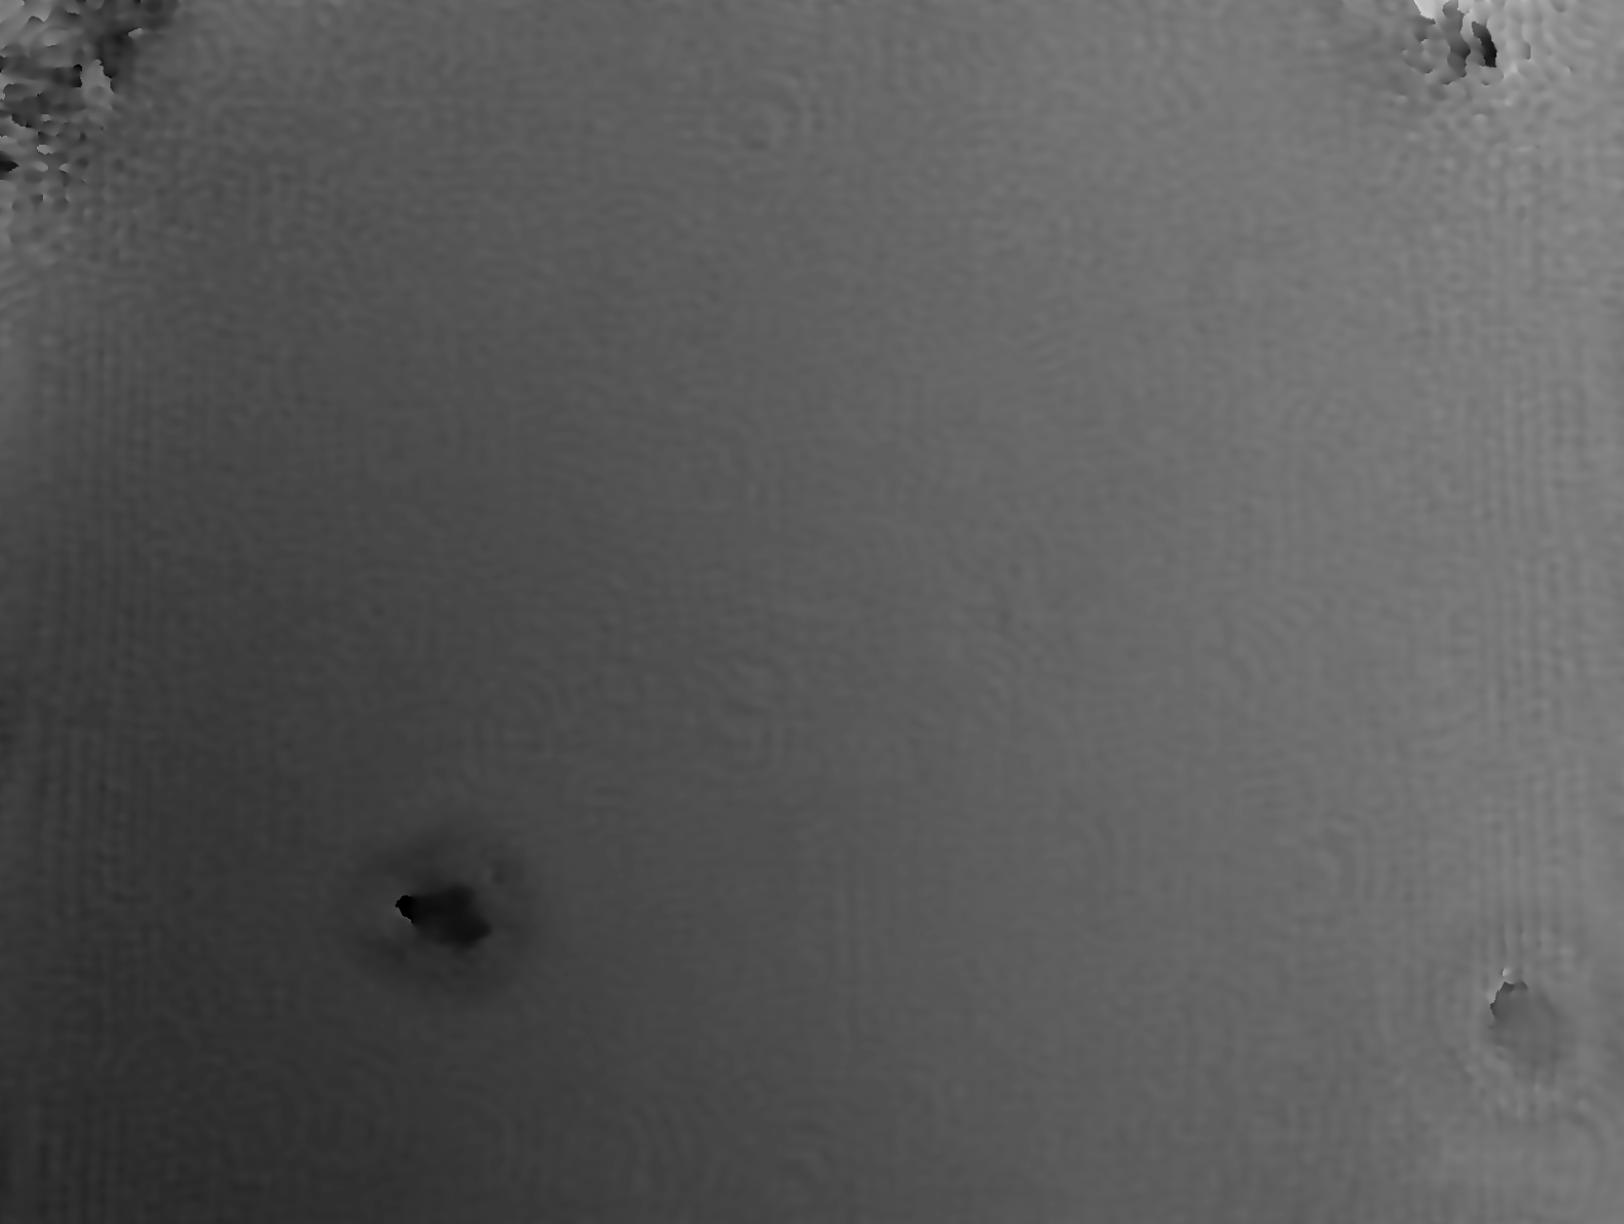cell: (1422, 895, 1624, 1148), (324, 816, 562, 1029)
